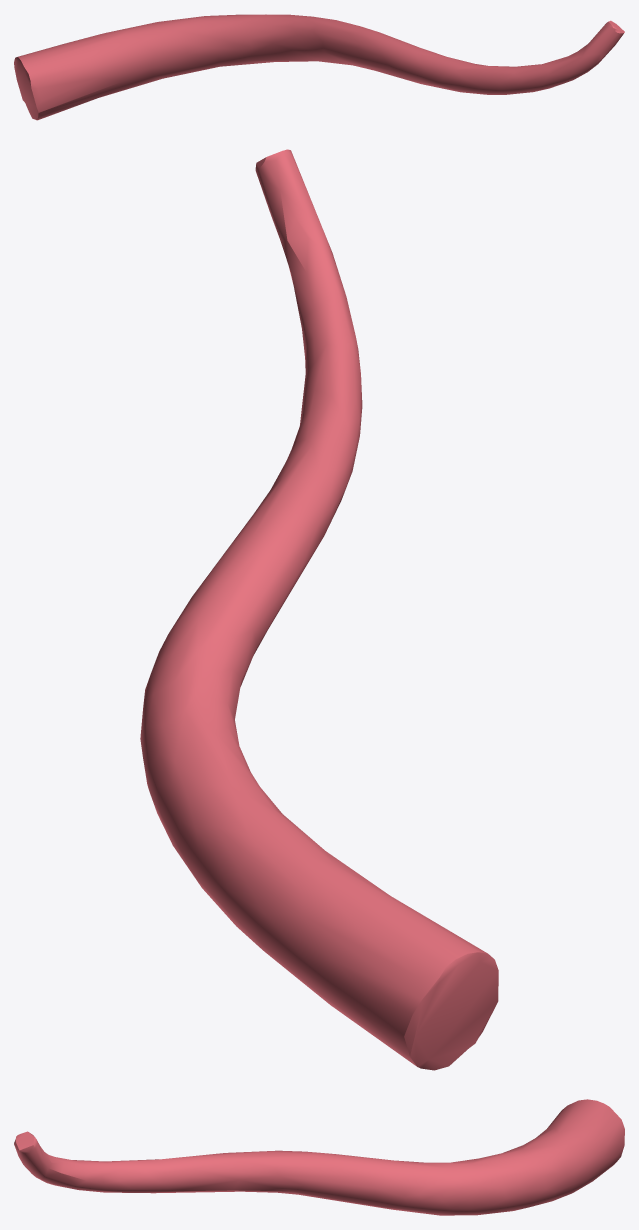
File: fma13279_fj2902.glb
3 views of the same model, one above another, from view 1: azimuth 30°, elevation 25°; view 2: azimuth 150°, elevation 25°; view 3: azimuth 270°, elevation 25° (orthographic). The views are drawn at different scales.
Parts seen in each view (by area): view 1: FMA13279_FJ2902; view 2: FMA13279_FJ2902; view 3: FMA13279_FJ2902.
Boxes of the visible parts, box(x1,y1,x2,y2) form: FMA13279_FJ2902: box(14, 14, 624, 120); FMA13279_FJ2902: box(140, 149, 498, 1070); FMA13279_FJ2902: box(14, 1099, 624, 1215).
Bounding box in the file's own units: 0.0397 × 0.021 × 0.0522.
